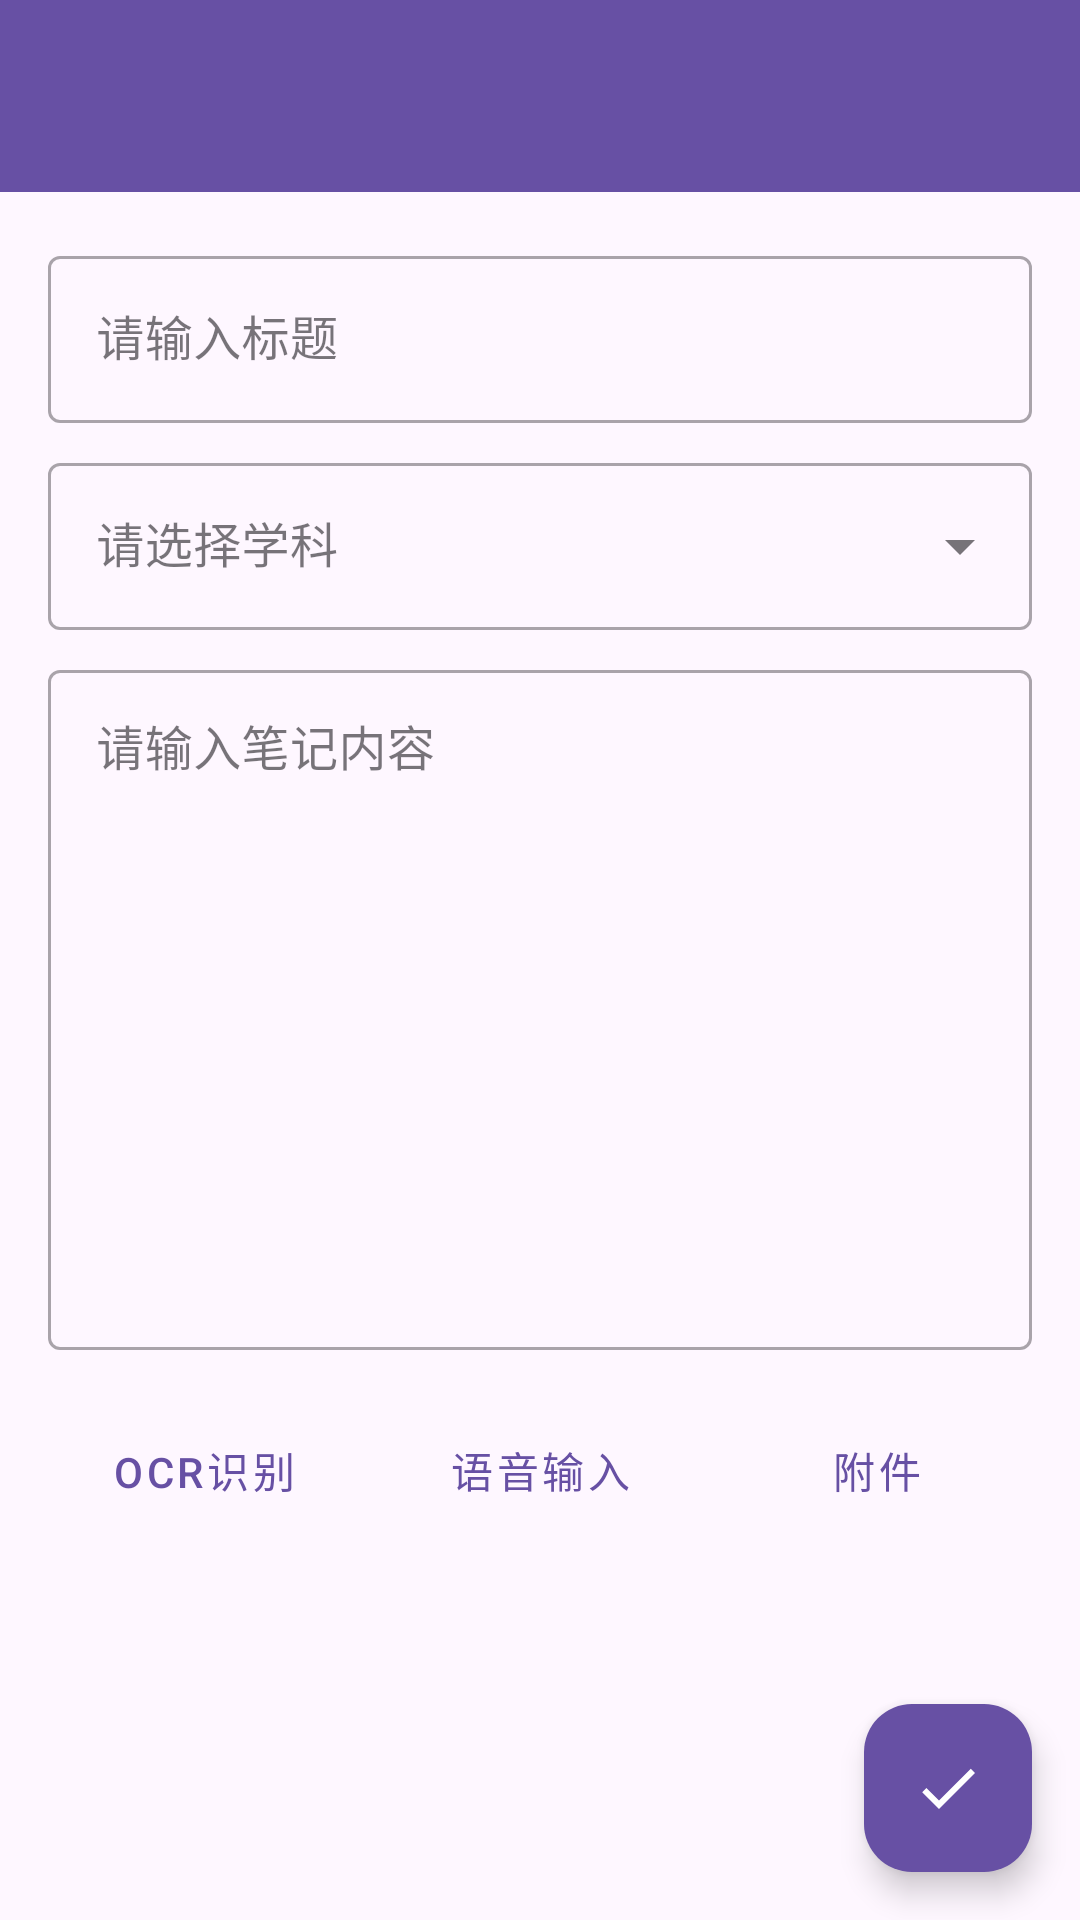

Icon click points for this 1080px x 1920px phone screenshot, format (x=x, y=y):
保存: (x=948, y=1788)
